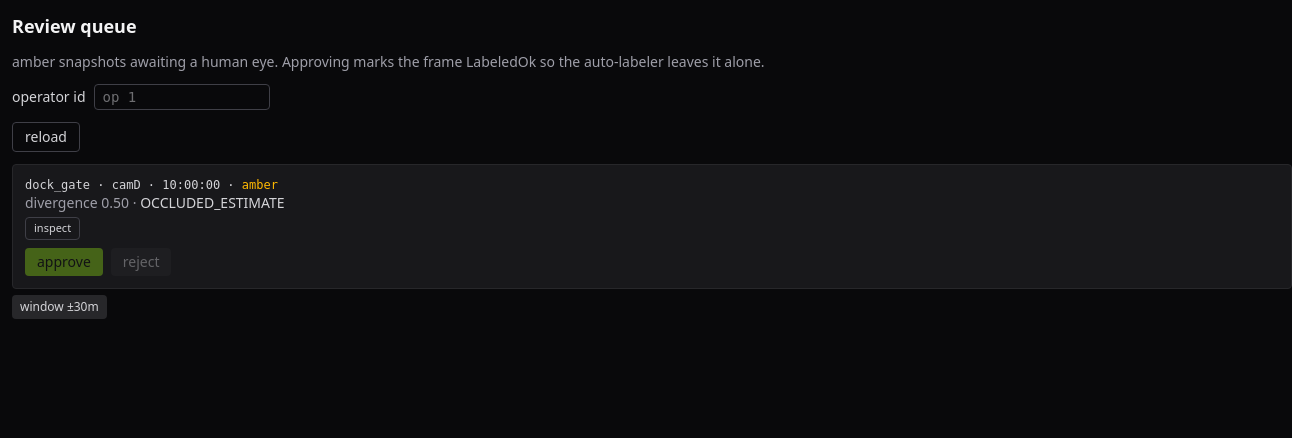
Test: SuspectWindowViewer (docs/12 §3) › shows the empty-window edge state
What coordinates should you click on to do the following:
click the button with test id "window-0190-abc"
I would click on:
 (59, 306)
Its box is left=12, top=294, right=107, bottom=318.
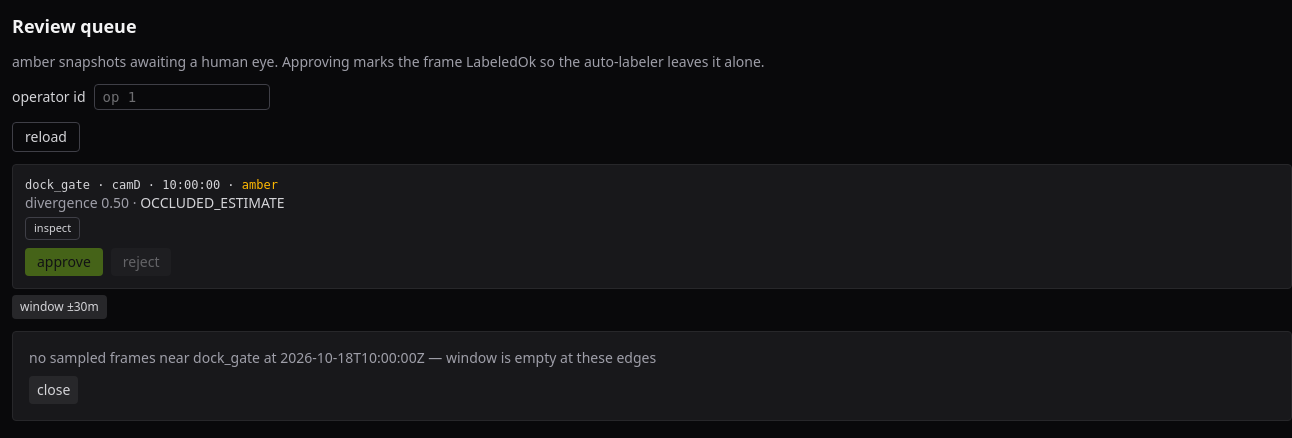
Expected: the text with test id "suspect-empty" shows "window is empty", left=425, top=348, right=656, bottom=366
What coordinates should you click on to do the following:
click the button with test id "suspect-close"
I would click on:
 (54, 390)
Its box is left=29, top=376, right=78, bottom=404.
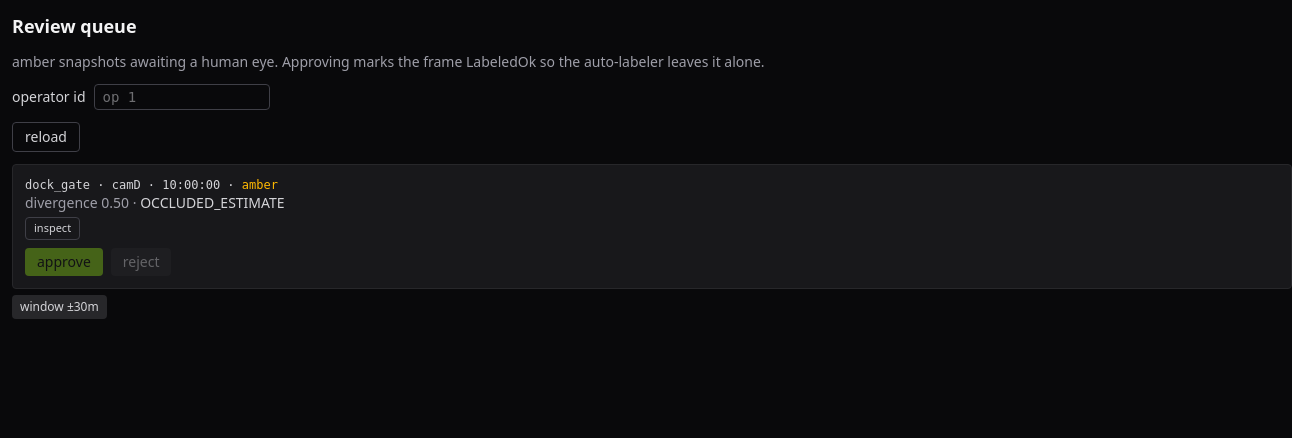
Expected: the element with test id "suspect-window" is gone
